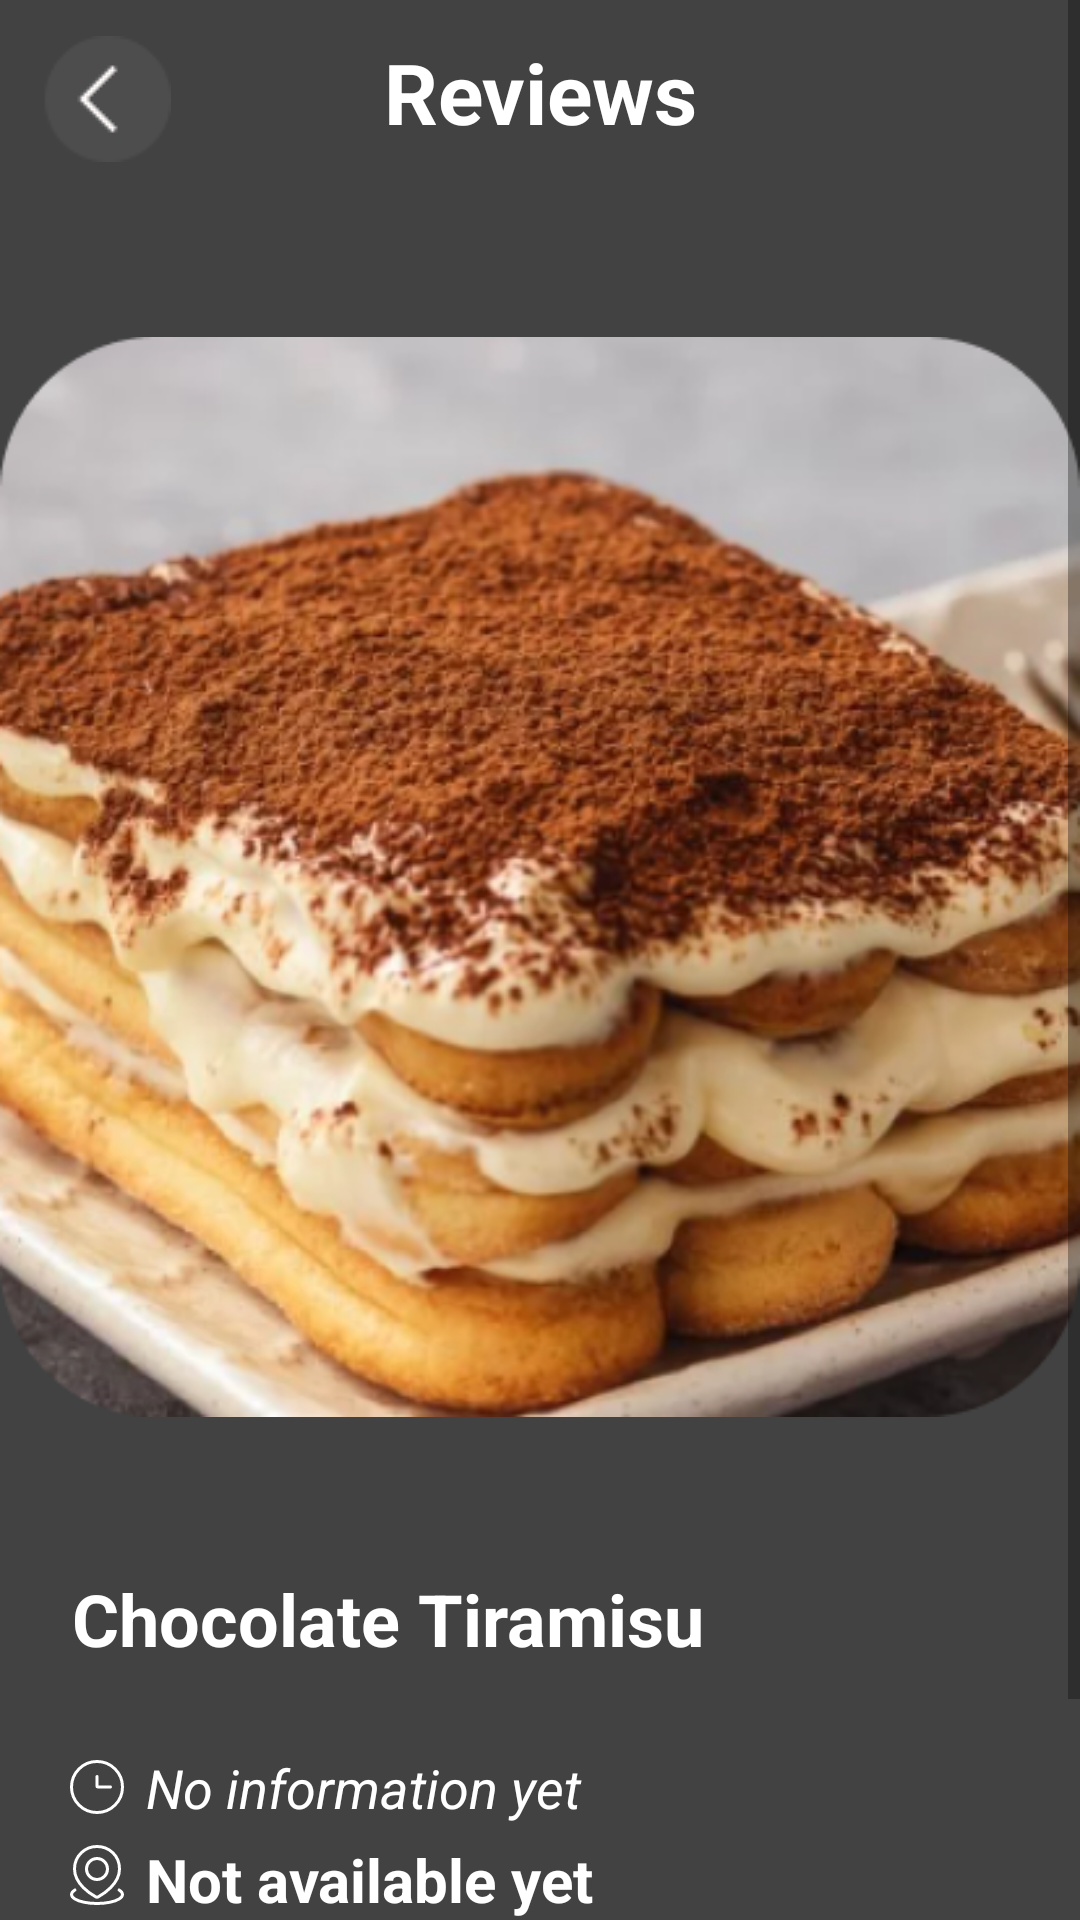

Point at icon controls on the screen. Image size 1080px x 1920px, points as (x,y).
review page back: (108,99)
review page location: (97,1875)
review page time: (97,1787)
